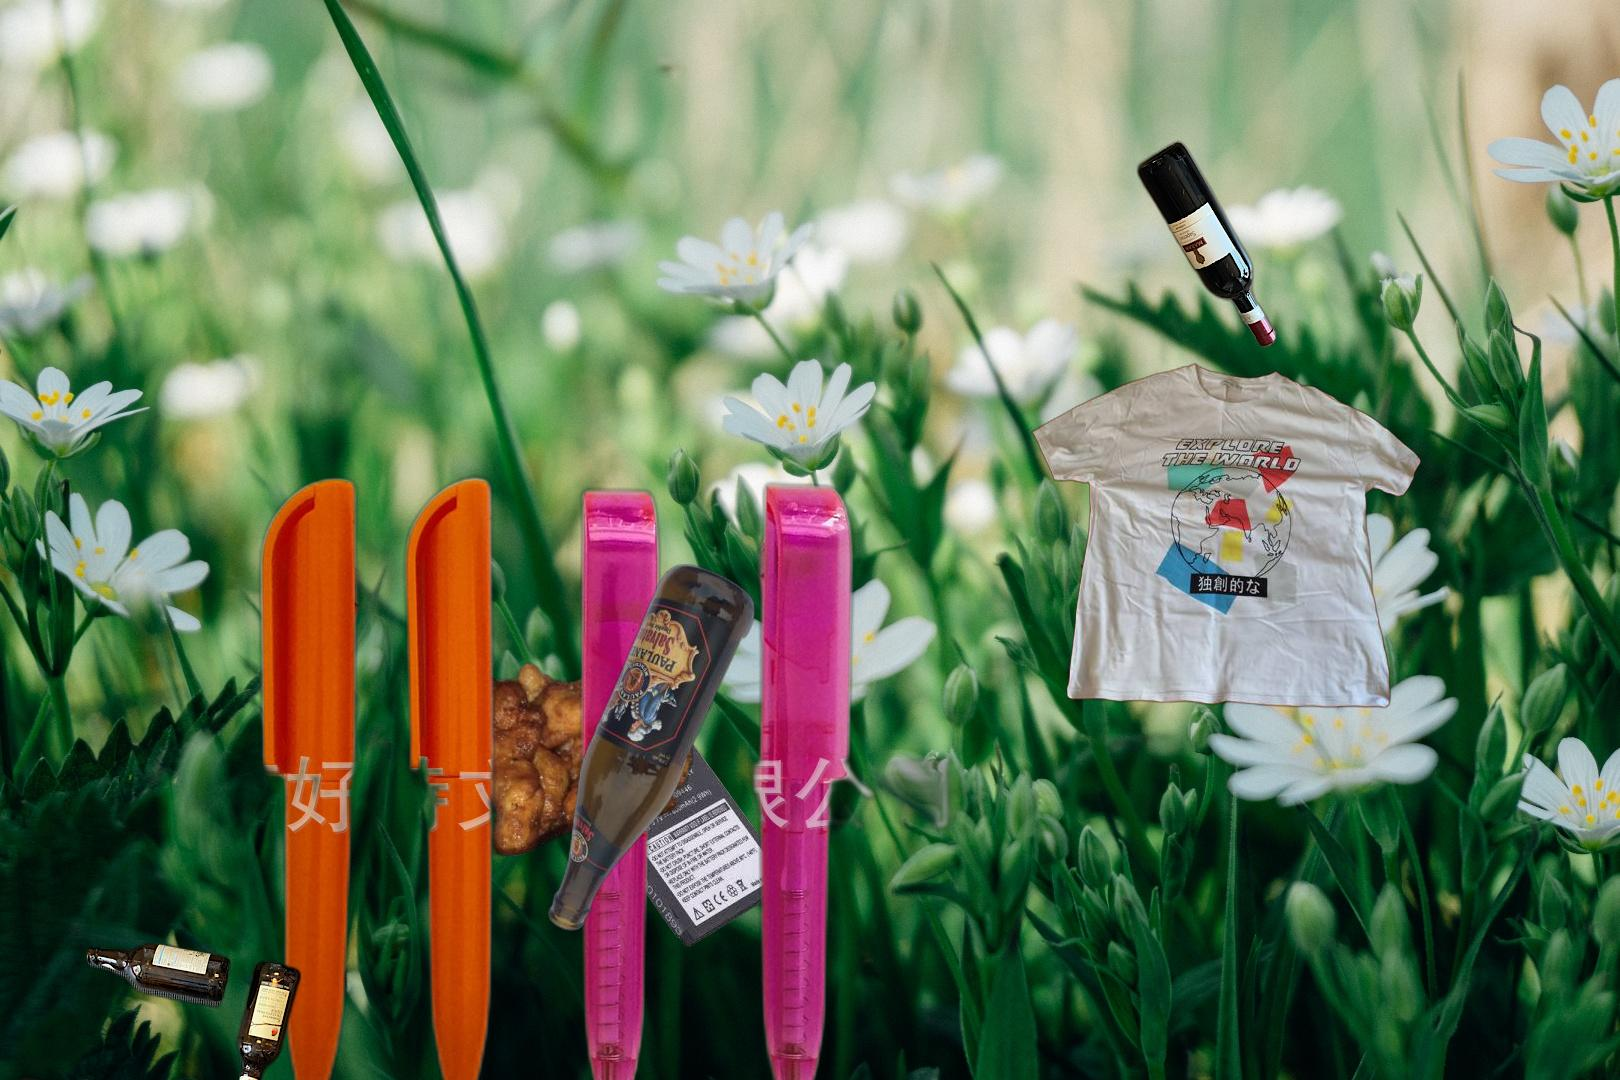battery: (568, 723, 793, 947)
biological: (436, 658, 955, 975)
clothes: (1028, 218, 1422, 712)
glass: (544, 560, 759, 932), (8, 937, 312, 1080), (1133, 136, 1281, 354)
penholder: (253, 469, 957, 1080)
